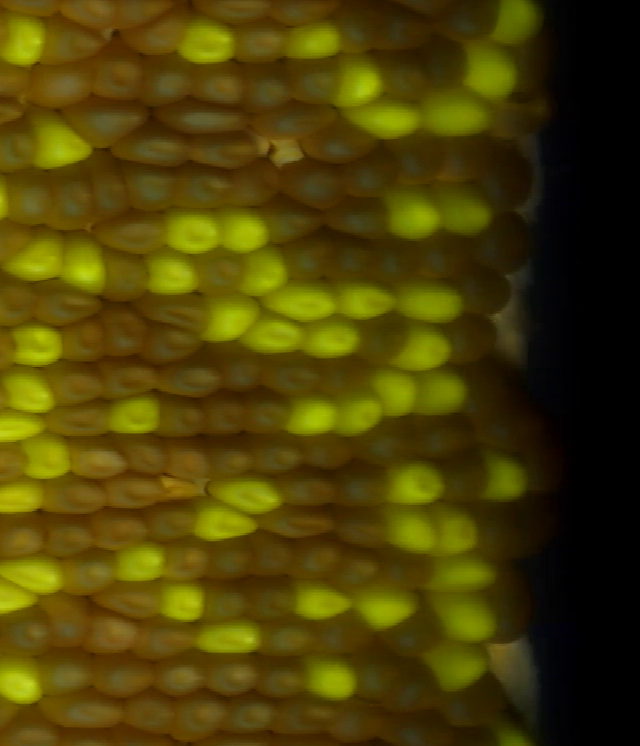fluorescent: (413, 82, 498, 143), (28, 101, 98, 172), (454, 37, 524, 106), (162, 203, 237, 261), (382, 183, 450, 245), (212, 465, 288, 520), (59, 230, 114, 301), (0, 360, 65, 419), (440, 583, 498, 649), (196, 493, 267, 546), (392, 325, 465, 376), (299, 649, 362, 708), (174, 14, 239, 71), (138, 245, 206, 299), (2, 224, 65, 282), (402, 275, 465, 333), (195, 297, 269, 345), (437, 182, 496, 241), (104, 382, 165, 439), (18, 429, 82, 483), (345, 97, 425, 139), (0, 548, 70, 596), (339, 275, 401, 329), (429, 550, 507, 592), (335, 48, 390, 107), (480, 448, 540, 502), (244, 309, 311, 356), (229, 249, 293, 298), (216, 208, 277, 259), (362, 580, 419, 633), (3, 320, 70, 365), (378, 364, 428, 424), (414, 370, 476, 418), (301, 316, 362, 364), (0, 9, 45, 74), (386, 461, 451, 506), (282, 16, 345, 62), (275, 280, 338, 325), (198, 618, 267, 659), (282, 391, 340, 439), (429, 644, 486, 692), (0, 650, 51, 702), (433, 506, 485, 556), (386, 506, 444, 550), (337, 393, 392, 439), (296, 577, 350, 623), (491, 1, 546, 46), (161, 575, 207, 625), (117, 543, 177, 581), (0, 404, 54, 444), (0, 565, 40, 619), (0, 480, 49, 517)
nonfluorescent: (275, 156, 362, 217), (119, 156, 193, 219), (181, 246, 261, 304), (212, 339, 285, 401), (413, 401, 481, 466), (480, 504, 560, 559), (61, 97, 153, 144), (86, 503, 165, 557), (72, 575, 170, 618), (187, 51, 248, 118), (453, 677, 523, 734), (187, 125, 271, 172), (81, 149, 135, 222), (24, 56, 99, 108), (378, 602, 453, 654), (477, 398, 546, 454), (88, 51, 158, 106), (33, 275, 103, 330), (439, 124, 497, 190), (41, 166, 99, 232), (39, 690, 130, 732), (116, 6, 192, 56), (91, 211, 177, 255), (269, 233, 340, 286), (355, 416, 422, 472), (39, 507, 107, 562), (260, 350, 333, 401), (386, 128, 450, 186), (0, 160, 51, 232), (29, 646, 101, 697), (29, 472, 107, 519), (141, 323, 224, 367), (111, 125, 191, 170), (67, 438, 135, 490), (99, 303, 158, 362), (483, 140, 532, 211), (35, 592, 96, 649), (127, 612, 204, 657), (162, 357, 239, 401), (441, 314, 506, 366), (376, 233, 432, 293), (238, 57, 299, 112), (0, 506, 55, 566), (360, 311, 418, 367), (376, 48, 430, 108), (259, 203, 338, 244), (55, 553, 132, 595), (46, 16, 109, 67), (435, 449, 490, 506), (101, 248, 155, 306), (498, 567, 535, 651), (217, 161, 286, 206), (307, 122, 386, 161), (174, 159, 230, 214), (325, 233, 377, 292), (482, 214, 534, 272), (137, 57, 198, 106), (203, 580, 264, 629), (155, 288, 218, 335), (399, 665, 454, 718), (156, 103, 256, 132), (45, 365, 108, 411), (311, 611, 380, 653), (249, 618, 319, 659), (204, 656, 266, 702), (301, 427, 358, 477), (292, 55, 350, 104), (44, 404, 125, 439), (83, 612, 146, 657), (344, 155, 411, 197), (269, 504, 339, 544), (199, 533, 256, 582), (350, 646, 399, 702), (422, 229, 466, 291), (337, 699, 395, 746), (99, 657, 167, 697), (159, 396, 209, 450), (3, 609, 54, 661), (101, 465, 160, 509), (338, 467, 395, 512), (161, 433, 212, 483), (243, 18, 295, 67), (118, 695, 177, 738), (464, 266, 514, 316), (277, 696, 335, 739), (323, 354, 382, 396), (0, 266, 39, 329), (0, 440, 49, 490), (0, 123, 48, 174), (123, 434, 174, 482), (107, 365, 182, 397), (250, 435, 307, 477), (254, 659, 311, 701), (240, 392, 293, 437), (174, 702, 228, 746), (282, 470, 338, 512), (255, 578, 311, 620), (446, 4, 509, 41), (65, 317, 111, 367), (333, 508, 393, 546), (159, 661, 214, 702), (203, 390, 246, 441), (376, 12, 435, 49), (0, 714, 68, 746), (254, 532, 295, 585), (324, 11, 370, 57), (298, 538, 346, 582), (151, 502, 201, 544), (207, 439, 256, 481), (433, 44, 474, 91), (0, 218, 37, 269), (219, 697, 277, 729), (166, 539, 208, 583), (344, 546, 385, 586), (459, 374, 508, 407), (155, 470, 204, 503), (390, 561, 440, 593), (0, 54, 33, 99), (0, 697, 35, 737)
